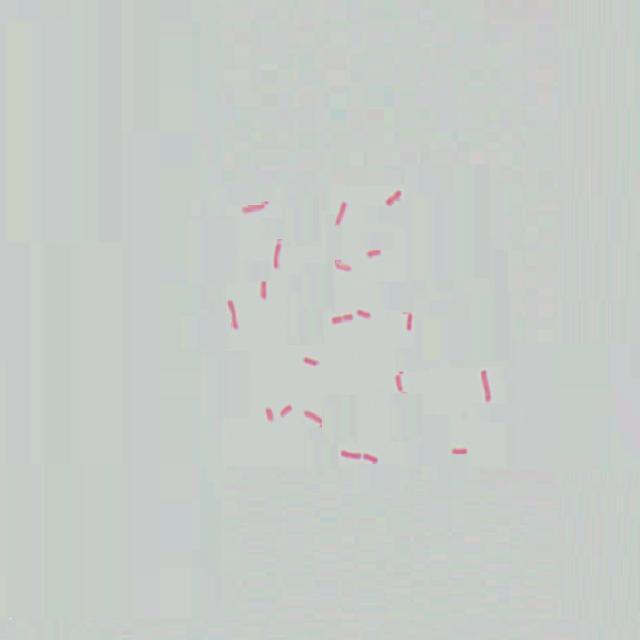E-coli: (479, 364, 497, 409), (240, 196, 269, 217), (303, 407, 325, 434), (225, 294, 239, 334), (363, 446, 382, 474), (381, 187, 405, 209), (332, 252, 353, 277), (272, 233, 285, 273), (330, 308, 353, 330), (339, 442, 361, 465), (448, 442, 468, 464), (263, 399, 278, 428), (393, 368, 407, 399), (332, 200, 348, 226), (258, 276, 271, 305), (302, 351, 320, 369), (404, 308, 415, 336), (366, 243, 383, 260), (279, 400, 292, 421), (356, 307, 373, 323)
